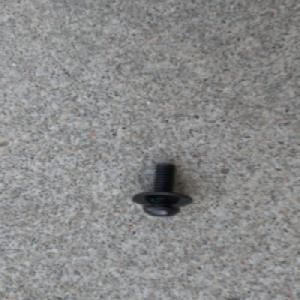BoltWasher: (129, 161, 194, 217)
